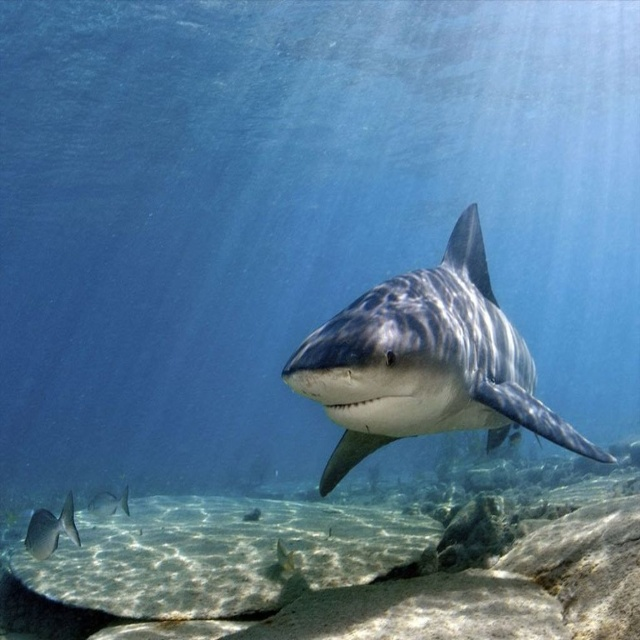Shark: (279, 202, 617, 497)
